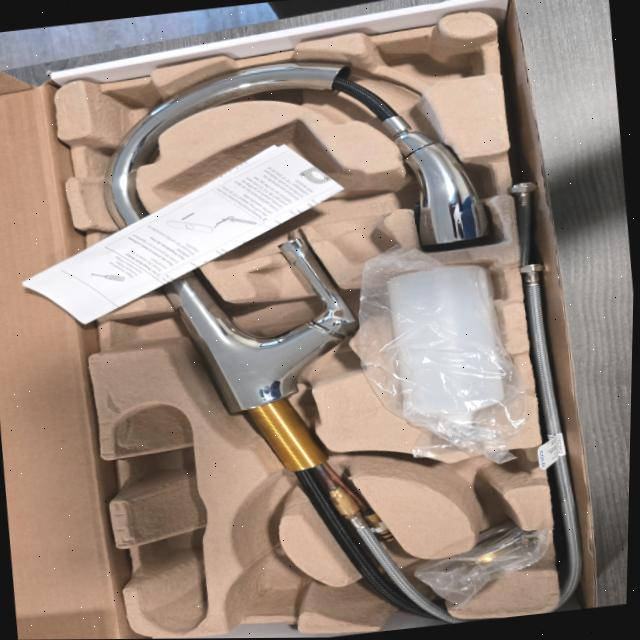1o: (103, 61, 488, 620)
2m: (154, 119, 395, 261)
3: (387, 264, 509, 444)
4m: (114, 404, 208, 631)
5m: (236, 560, 307, 614)
6: (409, 518, 552, 613)
7m: (365, 447, 539, 515)
8: (19, 142, 345, 326)
